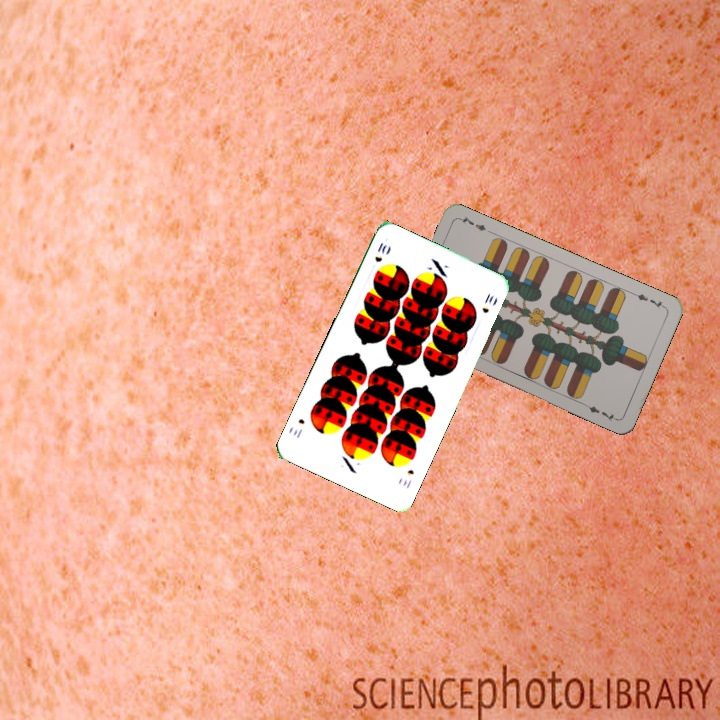E7: (629, 289, 668, 311)
S10: (371, 238, 389, 265), (399, 465, 416, 491)
